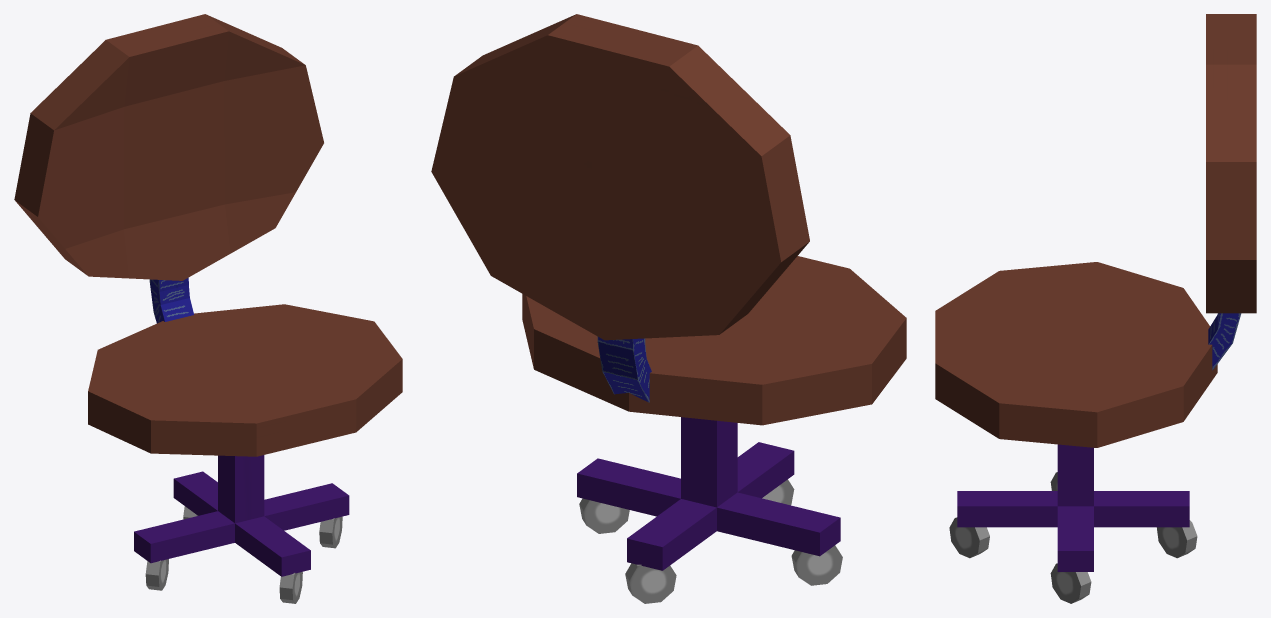
Rendered from office_chair.glb.
3 views of the same model, side by side, from view 1: azimuth 30°, elevation 25°; view 2: azimuth 150°, elevation 25°; view 3: azimuth 270°, elevation 25° (orthographic). The views are drawn at different scales.
Visible parts, largest first — view 1: Back, Seat, Legs, Connector, Wheel2, Wheel1, Wheel; view 2: Back, Seat, Legs, Connector, Wheel3, Wheel1, Wheel; view 3: Seat, Back, Legs, Connector, Wheel, Wheel2, Wheel3.
Part boxes in pixels (<box>): Back: <box>14,14,323,280</box>; Seat: <box>88,304,402,456</box>; Legs: <box>134,455,349,576</box>; Connector: <box>149,277,193,323</box>; Wheel2: <box>279,572,302,603</box>; Wheel1: <box>145,559,168,590</box>; Wheel: <box>319,516,342,548</box>; Back: <box>431,14,809,340</box>; Seat: <box>522,256,906,425</box>; Legs: <box>577,417,840,570</box>; Connector: <box>597,336,651,402</box>; Wheel3: <box>625,563,676,603</box>; Wheel1: <box>791,545,842,585</box>; Wheel: <box>579,498,629,533</box>; Seat: <box>935,262,1217,447</box>; Back: <box>1206,14,1256,313</box>; Legs: <box>957,444,1189,571</box>; Connector: <box>1208,313,1241,370</box>; Wheel: <box>1050,563,1091,603</box>; Wheel2: <box>949,517,989,558</box>; Wheel3: <box>1157,520,1197,558</box>.
Size of the model in its own units: 2.45 by 3.9 by 2.21.
Materials: 1 (1 with a texture image).
